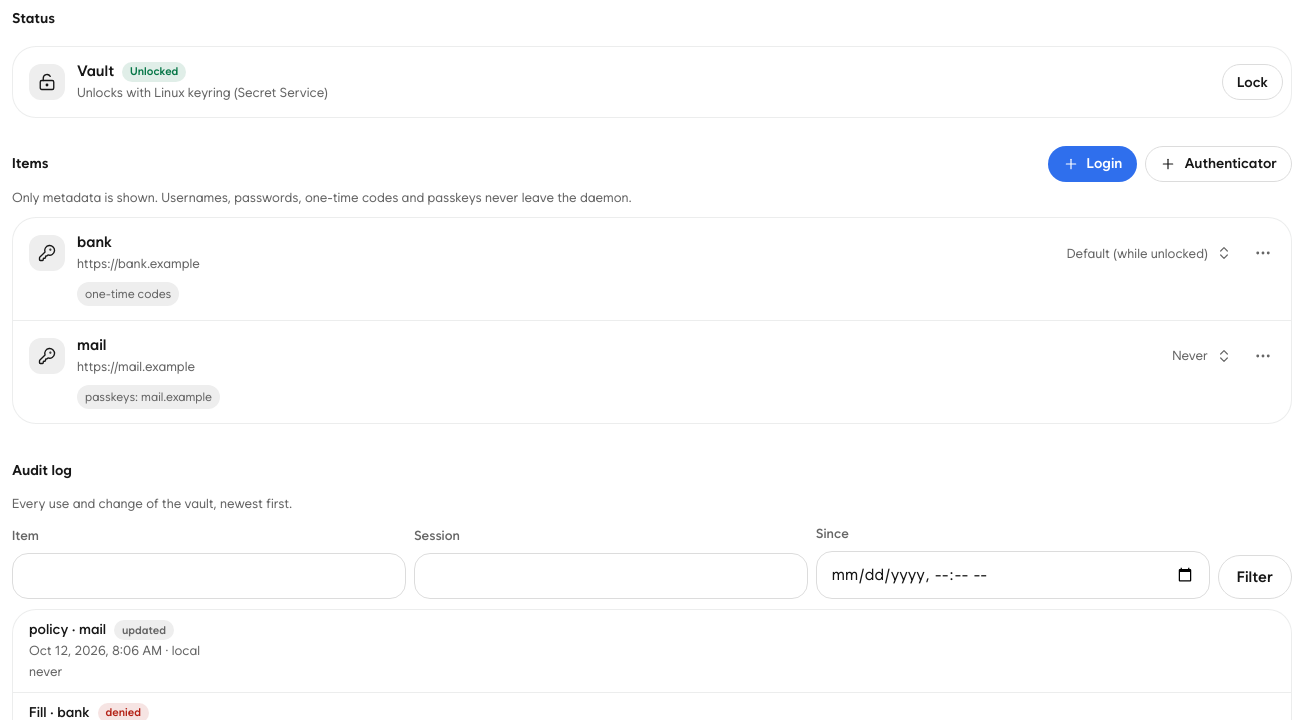
Test: VaultPage › lists audit records newest first, highlights denials and filters by item, session and time
The width and height of the screenshot is (1304, 720).
Type "bank" into the field labelled "Item" at (209, 576), box [12,553,406,599]
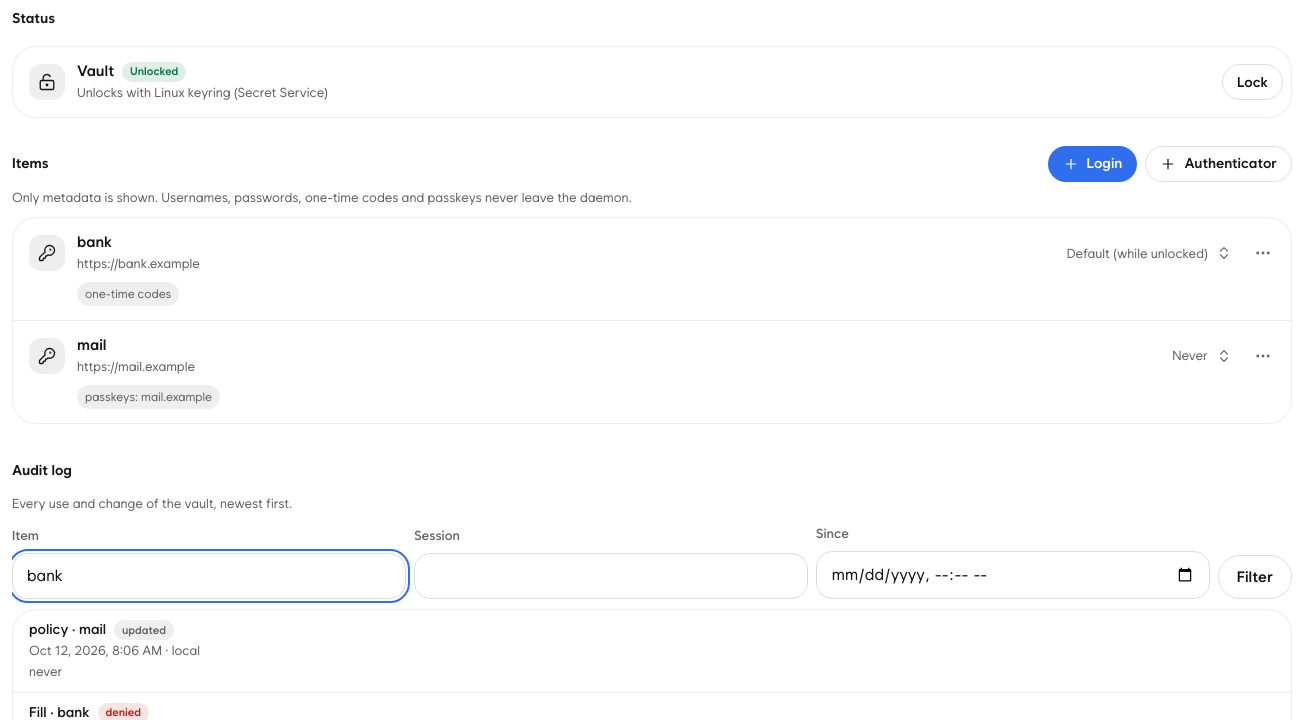
Type "s2" into the field labelled "Session" at (611, 576), box [414,553,808,599]
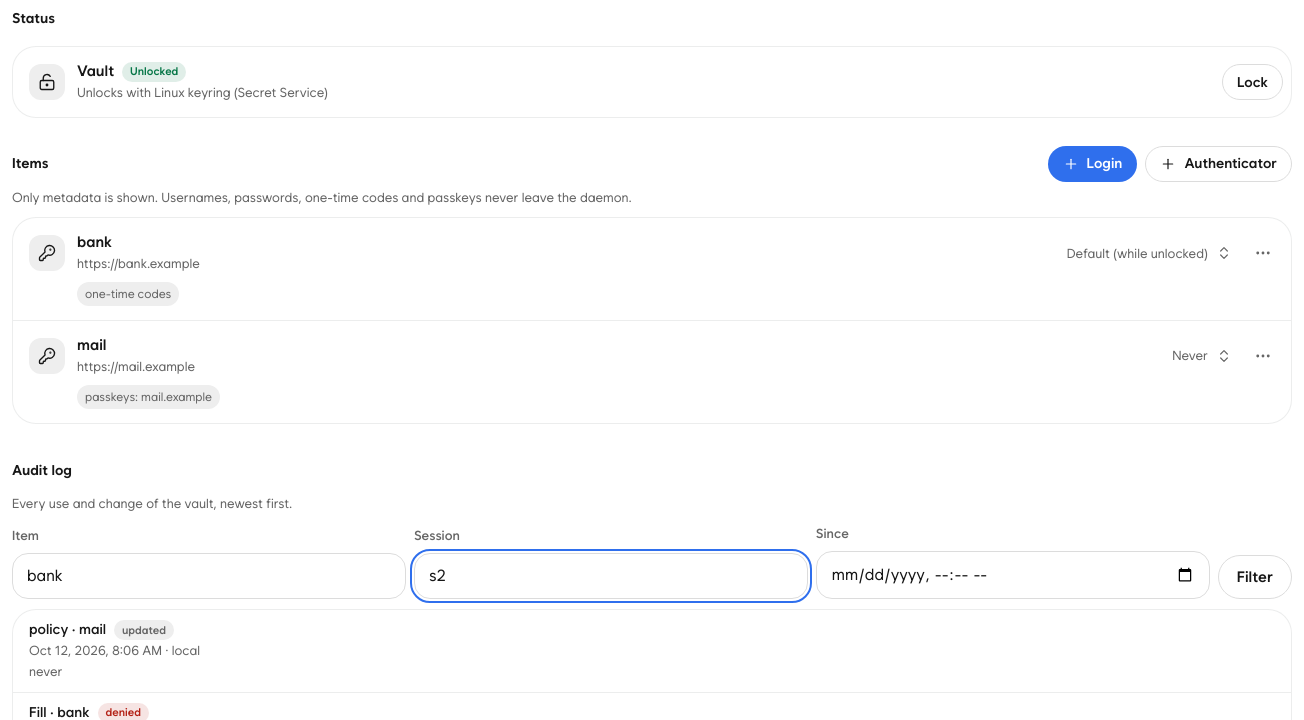
Click the button "Filter" at (1255, 577), box [1218,555,1292,599]
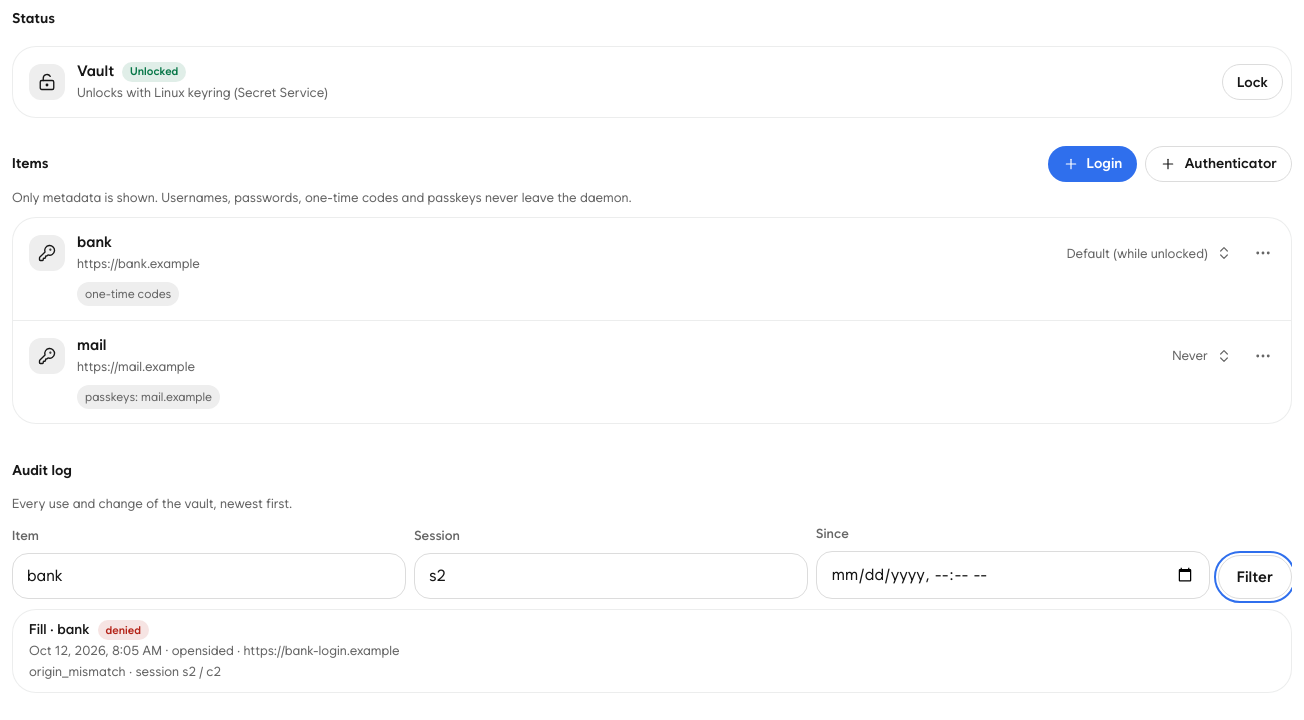
Clear the field labelled "Session" at (611, 576), box [414,553,808,599]
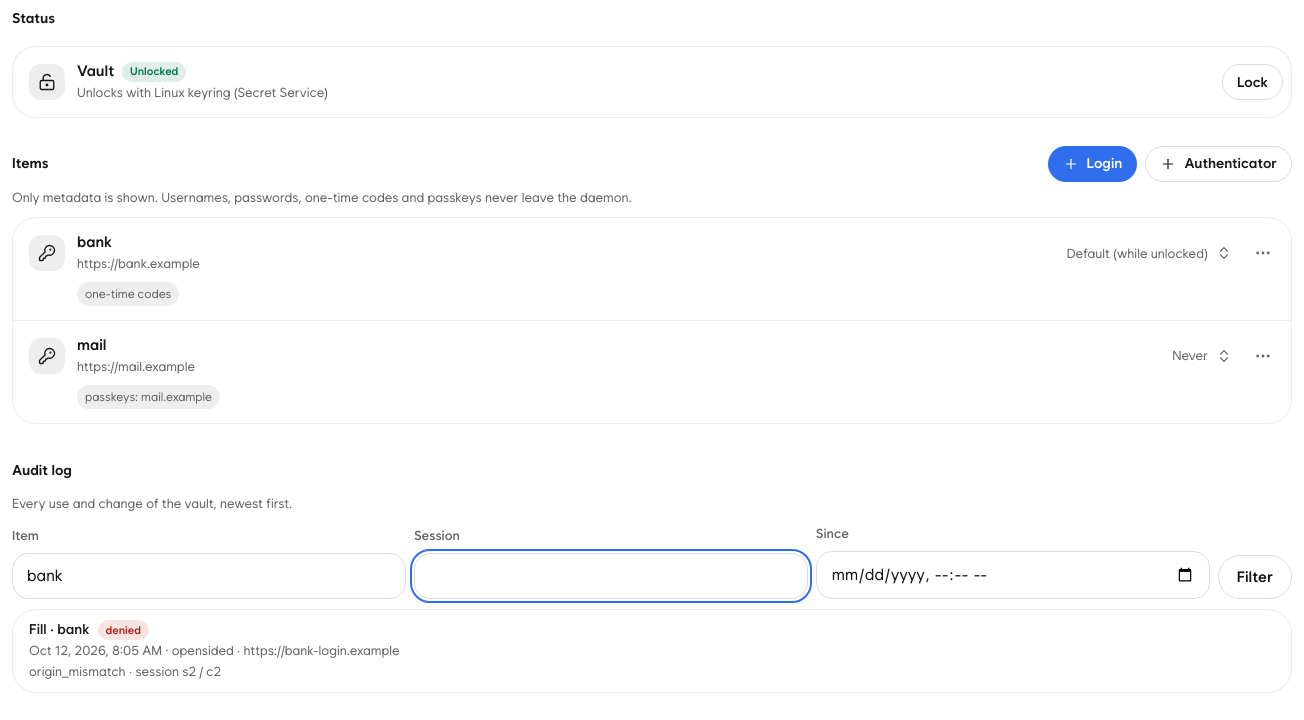
Type "2030-01-01T00:00" into the field labelled "Since" at (1013, 575), box [816,551,1210,599]
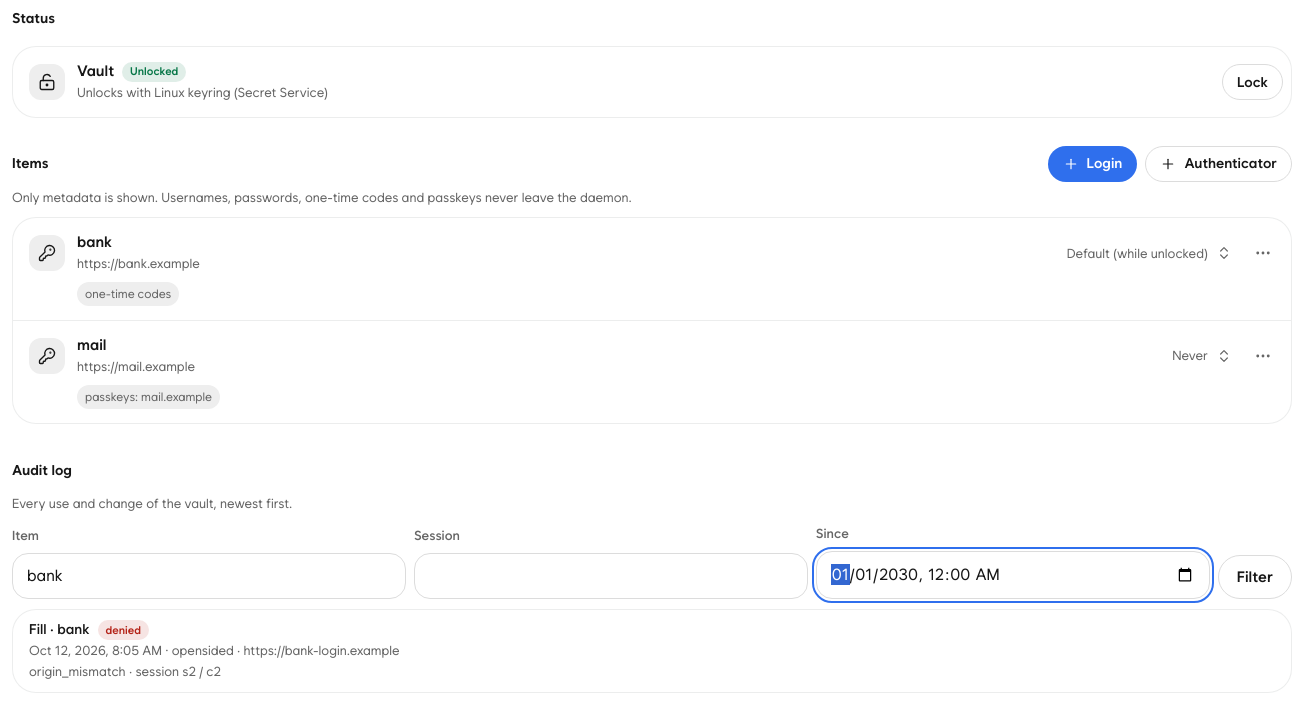
Click the button "Filter" at (1255, 577), box [1218,555,1292,599]
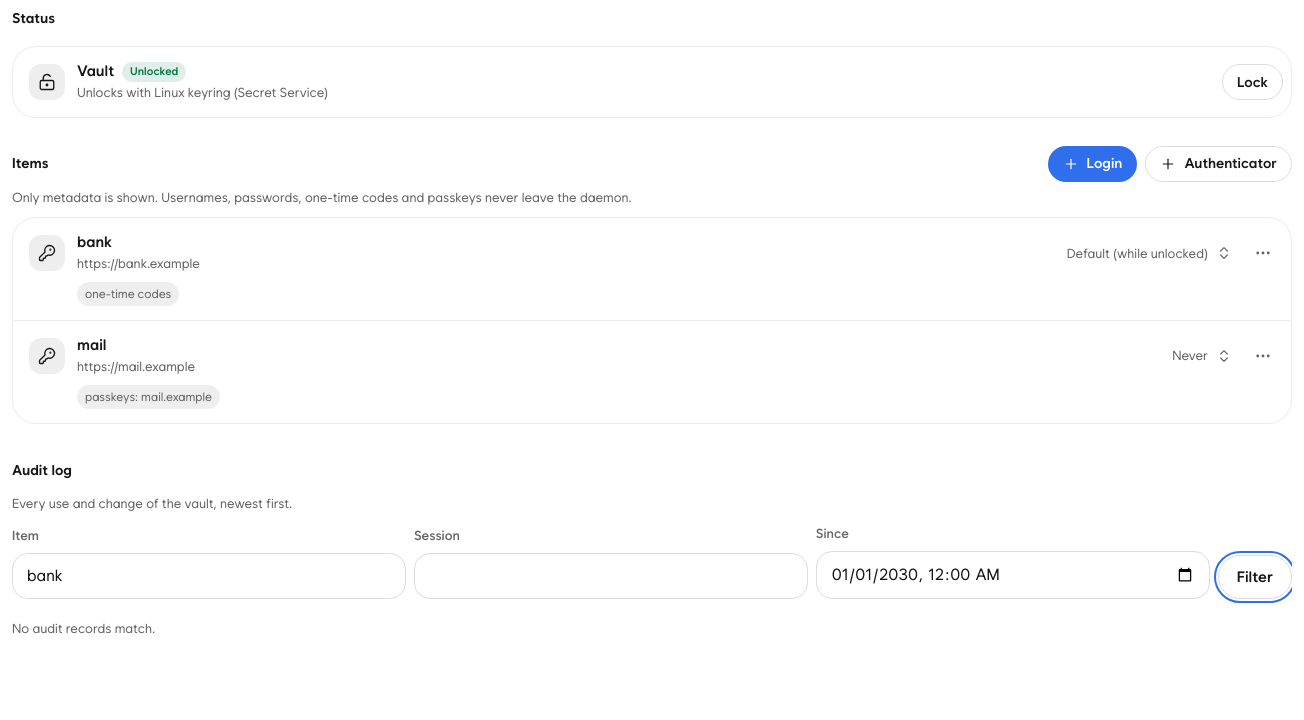
expect the text "No audit records match." is shown: met, box [12,621,155,636]
